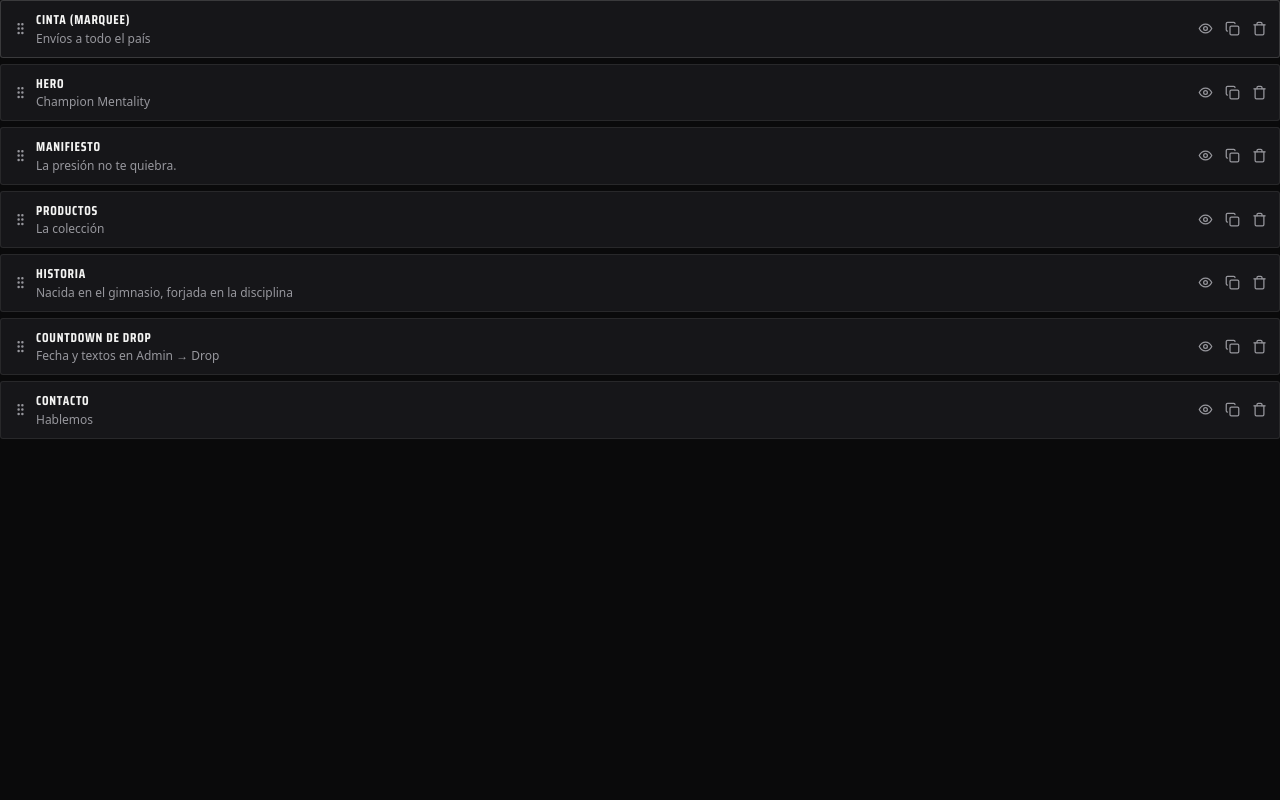
Test case: cancelling the delete dialog keeps the section
Step 1. Click the 1st button named "Eliminar" → x=1260, y=29, box [1248, 17, 1271, 40]
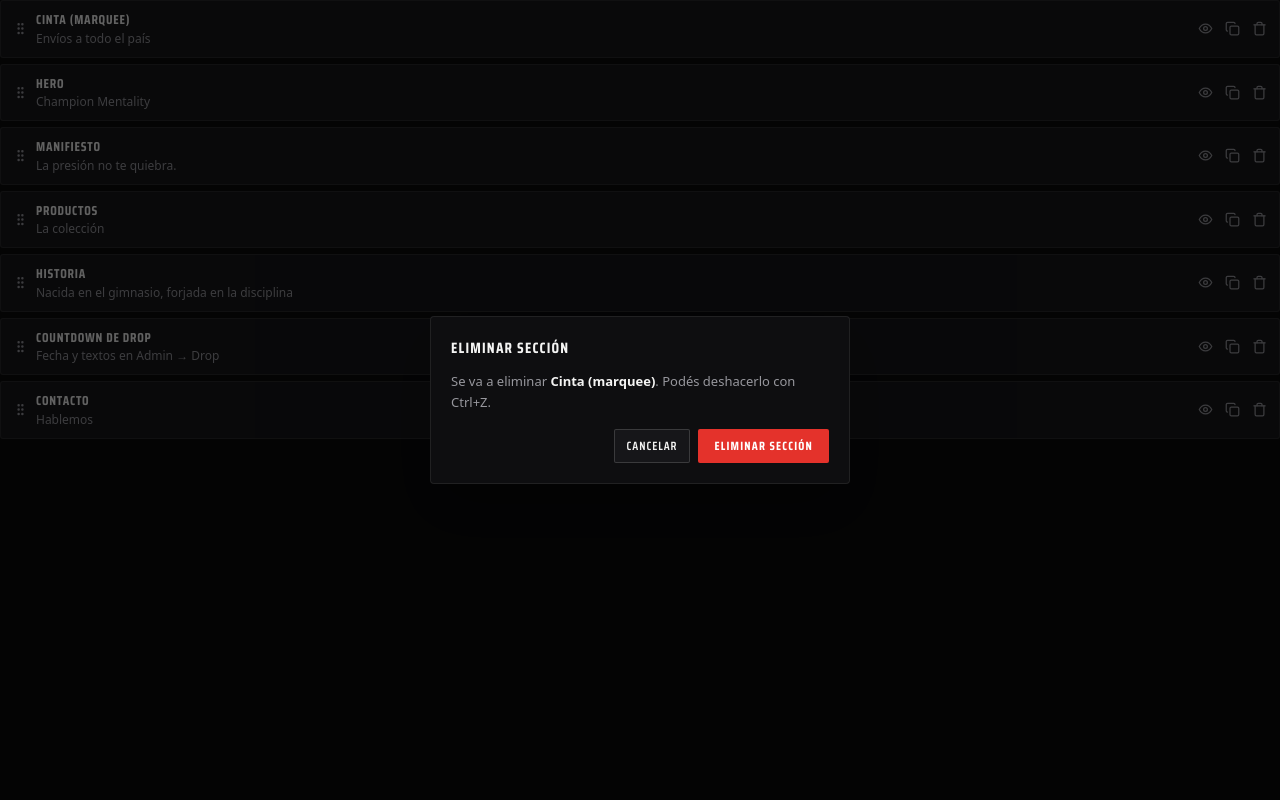
Step 2. Click the button "Cancelar" → x=652, y=446, box [614, 429, 690, 463]
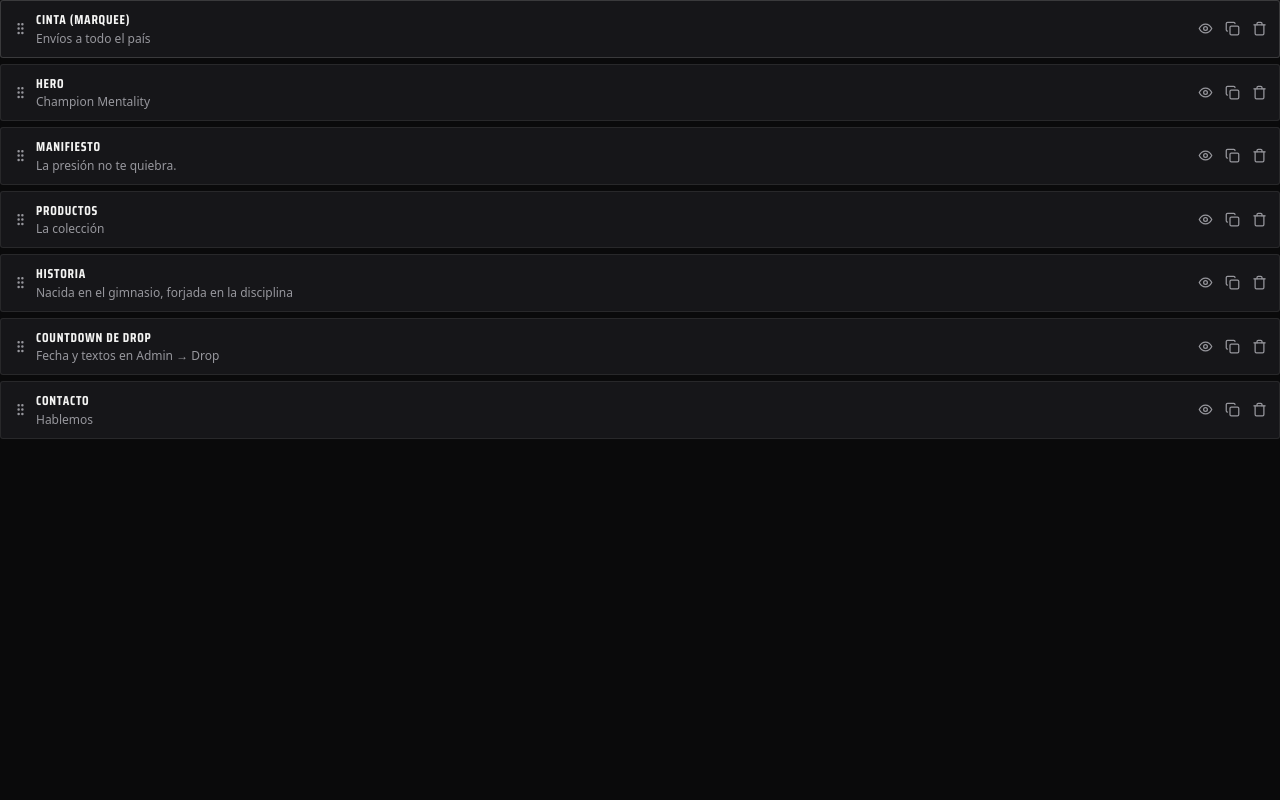
Result: the text "Eliminar sección" is gone
